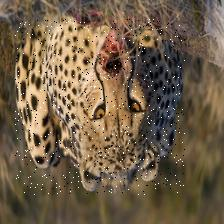Cheetha: (15, 18, 185, 194)
